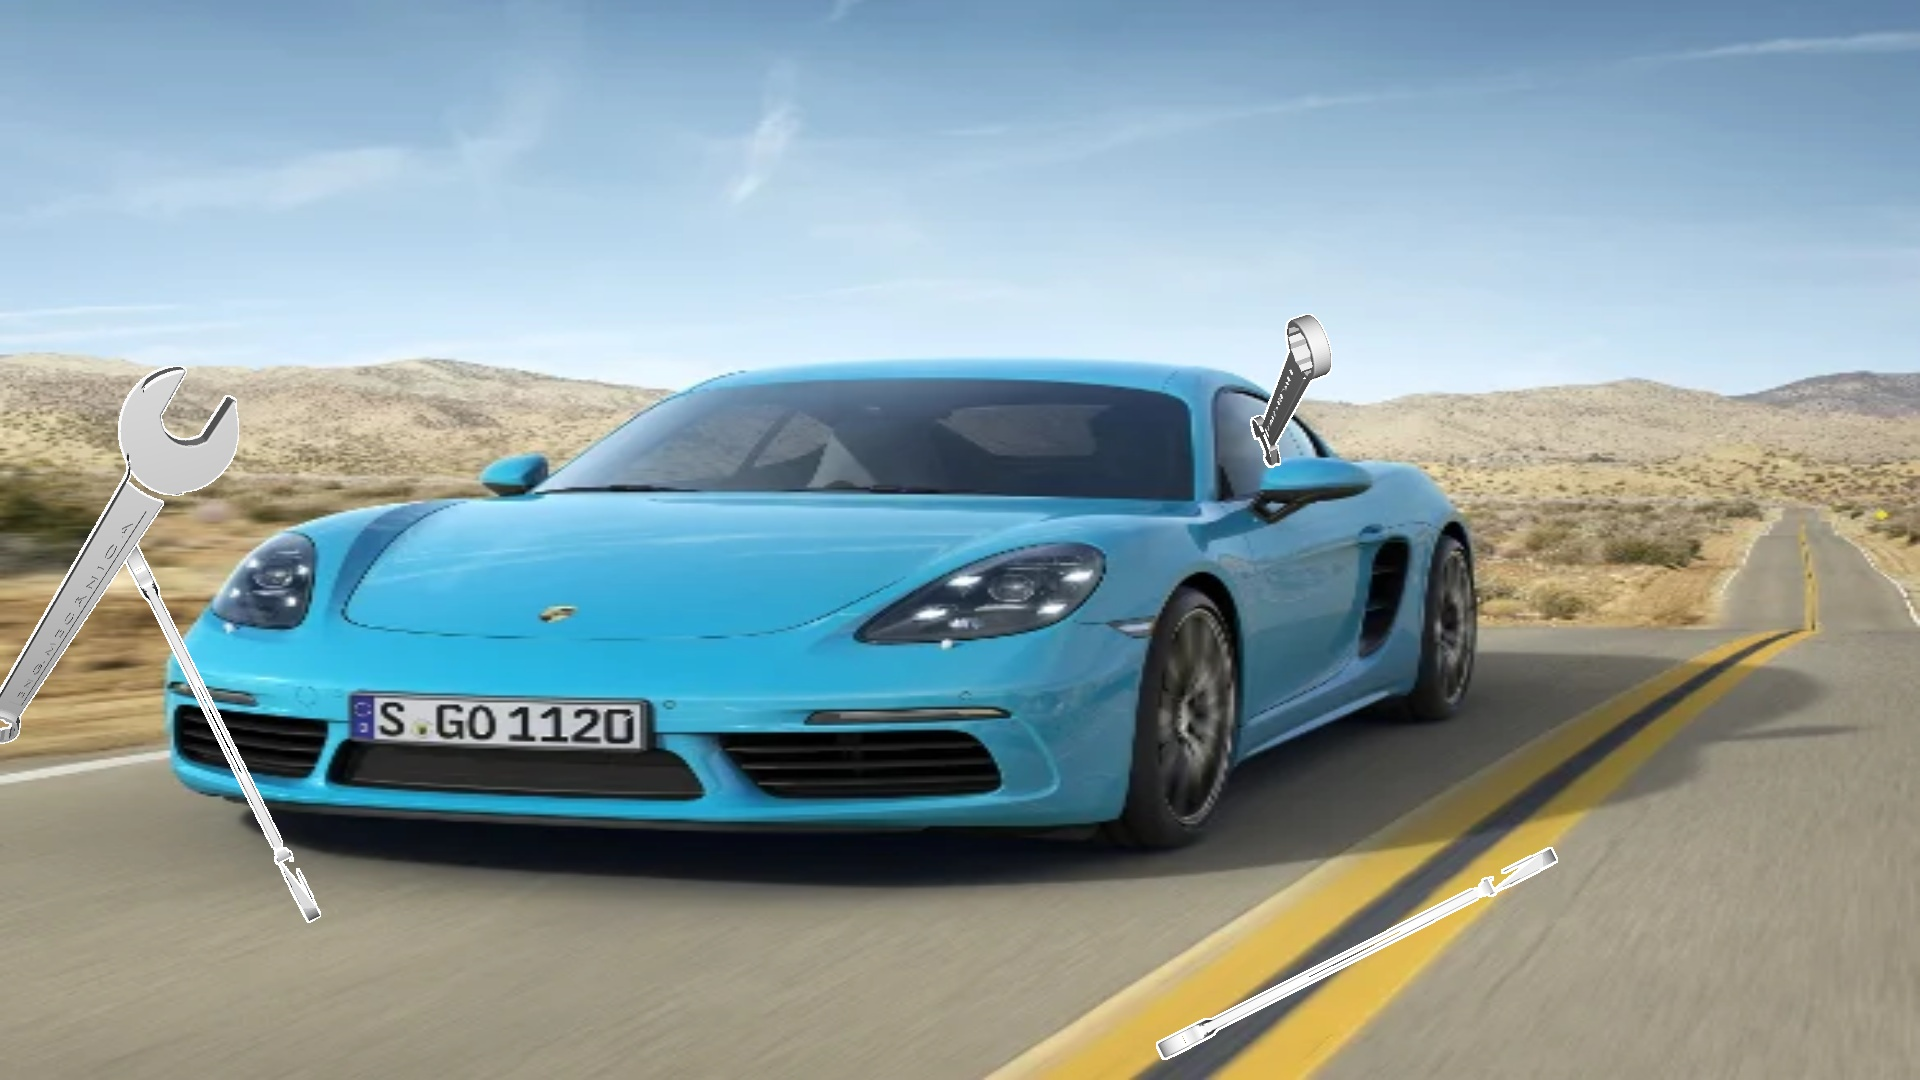Mixed Key: (0, 367, 237, 742), (1156, 847, 1557, 1059), (125, 545, 320, 922), (1250, 314, 1331, 467)
